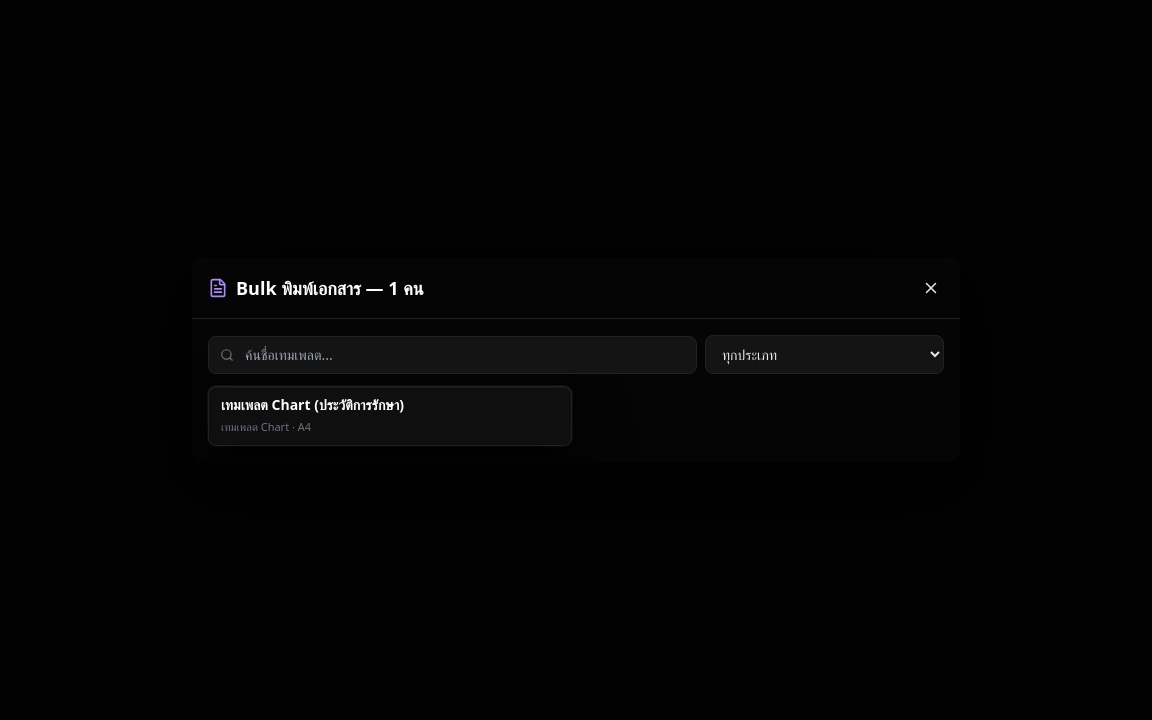
BulkPrintModal smart staff-select (V32-tris) › SP1.1 staff-select renders as smart dropdown (NOT plain text input)
Note: Wait for templates + doctor list to load
Step 1. Click the button with test id "bulk-print-template-chart-tpl" → coordinates (390, 416), box 208,386 -> 572,446
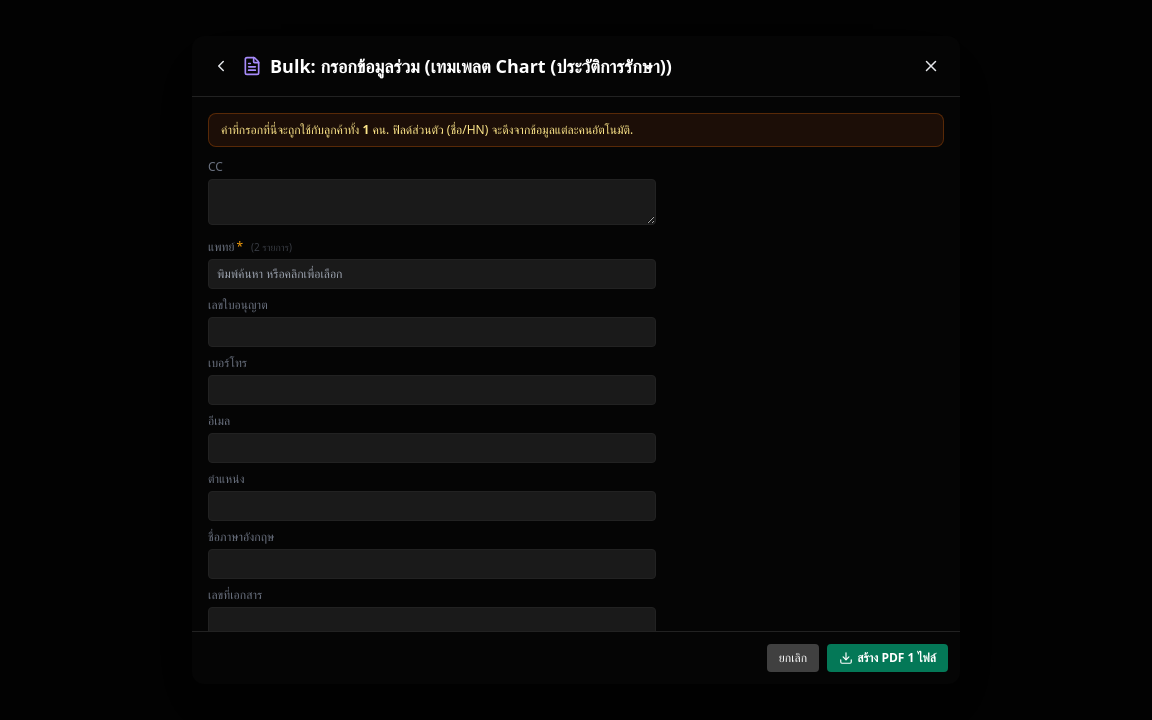
Expected: the element with test id "staff-select-doctorName" is shown, 208,239 -> 656,289
